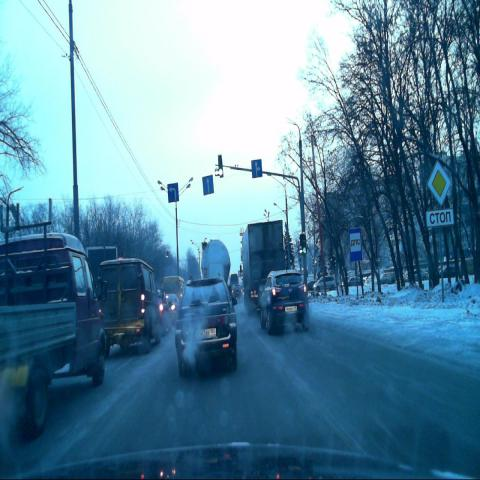7_12: (349, 228, 363, 261)
